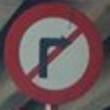Cam re: (6, 5, 103, 103)
